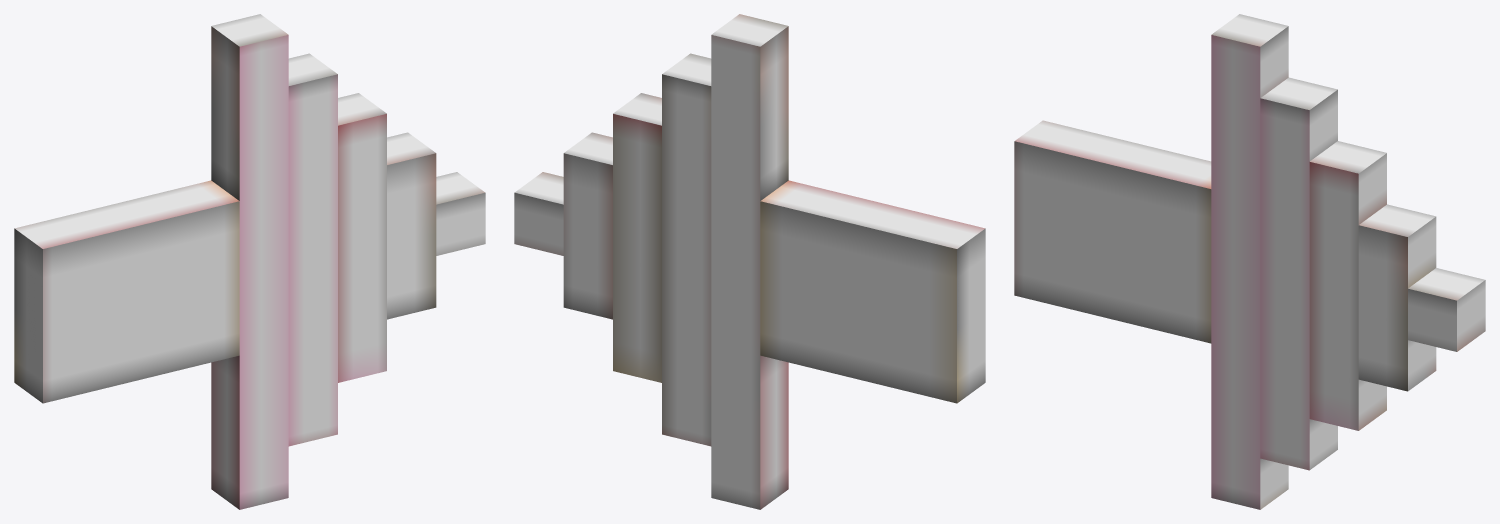
Rendered from Matrix_13.dae.
3 renders of one model, left to right at view 1: azimuth 30°, elevation 25°; view 2: azimuth 150°, elevation 25°; view 3: azimuth 330°, elevation 25°, orthographic.
Visible parts, largest first — view 1: Matrix_13; view 2: Matrix_13; view 3: Matrix_13.
Part boxes in pixels (box(x1,y1,x2,y2)): Matrix_13: box(14, 14, 485, 509); Matrix_13: box(514, 14, 985, 509); Matrix_13: box(1014, 14, 1485, 509).
Size of the model in its own units: 9 by 9 by 1.
